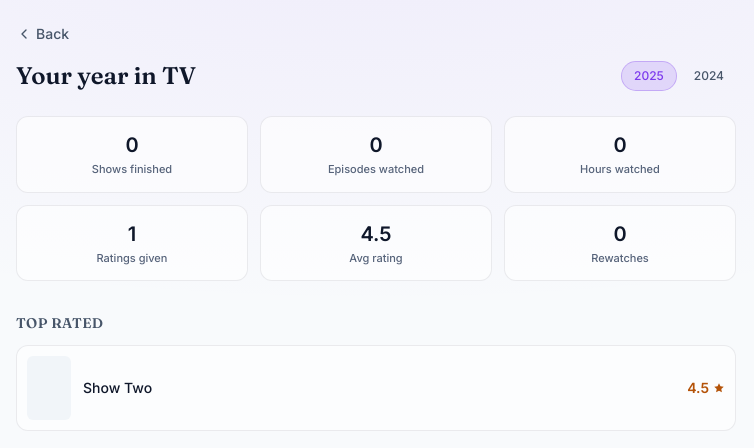
Scenario: Recap › shows year-selector buttons when multiple years have data, and switches on click
The width and height of the screenshot is (754, 448).
Expected: the button "2025" is shown, [622,62,676,90]
Click the button "2024" at (709, 76), box [682,62,736,90]
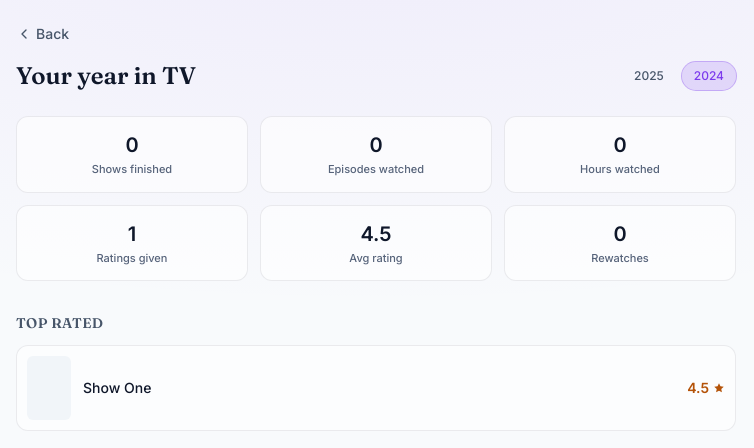
Now the button "2024" is pressed, box [682,62,736,90]
